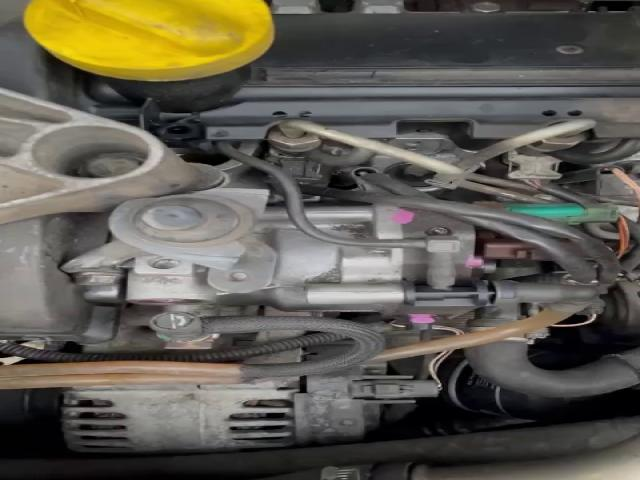alternator: (62, 377, 298, 452)
high_pressure_pump: (62, 188, 497, 328)
